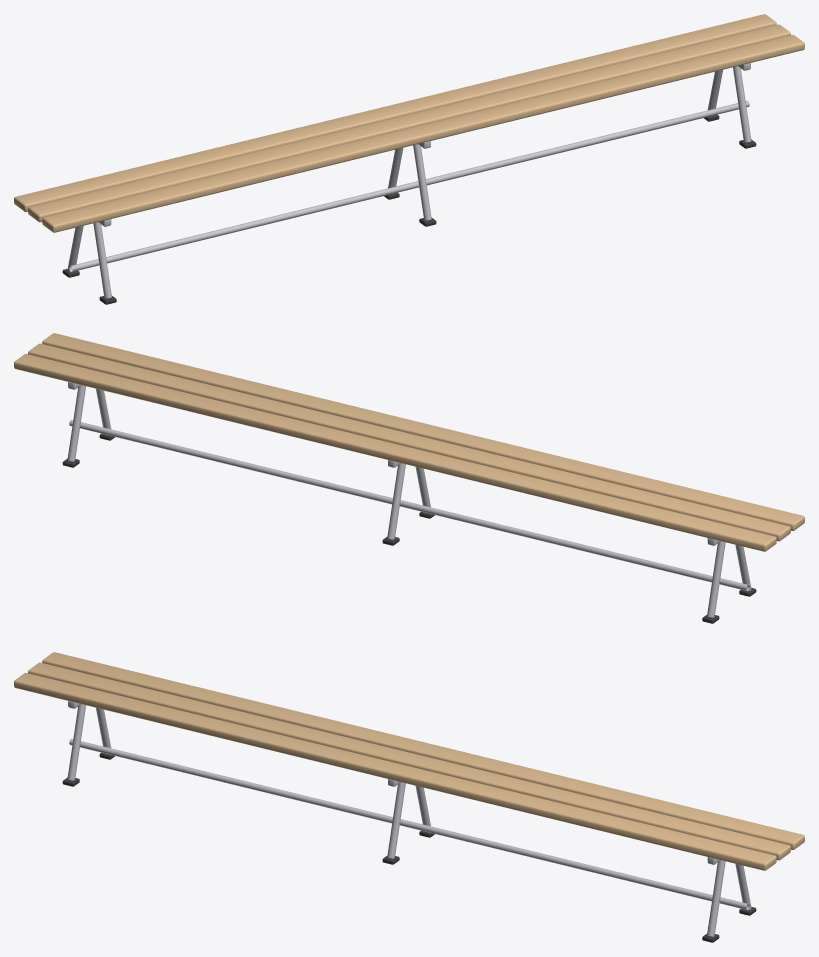
Rendered from bench.glb.
The picture shows the model from 3 angles, top to bottom: view 1: azimuth 30°, elevation 25°; view 2: azimuth 150°, elevation 25°; view 3: azimuth 330°, elevation 25°; orthographic projection.
Parts seen in each view (by area): view 1: slat2, slat1, slat0, rail, leg01, leg1.71, leg-1.71; view 2: slat0, slat1, slat2, rail, leg0-1, leg1.7-1, leg-1.7-1; view 3: slat2, slat1, slat0, rail, leg01, leg-1.71, leg1.71.
Part boxes in pixels (<box>): slat2: <box>42,35,804,232</box>; slat1: <box>28,24,790,222</box>; slat0: <box>14,14,776,211</box>; rail: <box>69,100,749,271</box>; leg01: <box>413,144,431,220</box>; leg1.71: <box>733,66,751,142</box>; leg-1.71: <box>93,222,111,298</box>; slat0: <box>14,354,776,551</box>; slat1: <box>28,343,790,541</box>; slat2: <box>42,333,804,530</box>; rail: <box>69,419,749,590</box>; leg0-1: <box>387,463,405,539</box>; leg1.7-1: <box>67,385,85,461</box>; leg-1.7-1: <box>707,541,725,617</box>; slat2: <box>14,673,776,870</box>; slat1: <box>28,662,790,860</box>; slat0: <box>42,652,804,849</box>; rail: <box>69,738,749,909</box>; leg01: <box>387,782,405,858</box>; leg-1.71: <box>67,704,85,780</box>; leg1.71: <box>707,860,725,936</box>.
Size of the model in its own units: 4 by 0.46 by 0.4.
